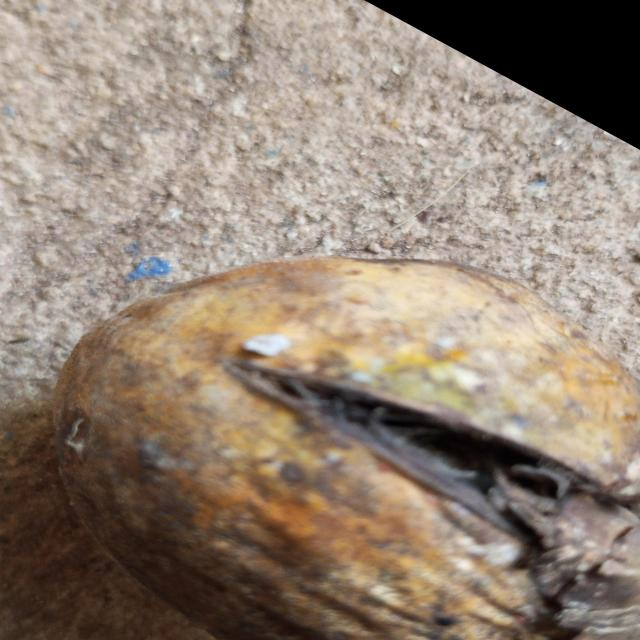damaged: (49, 255, 640, 640)
